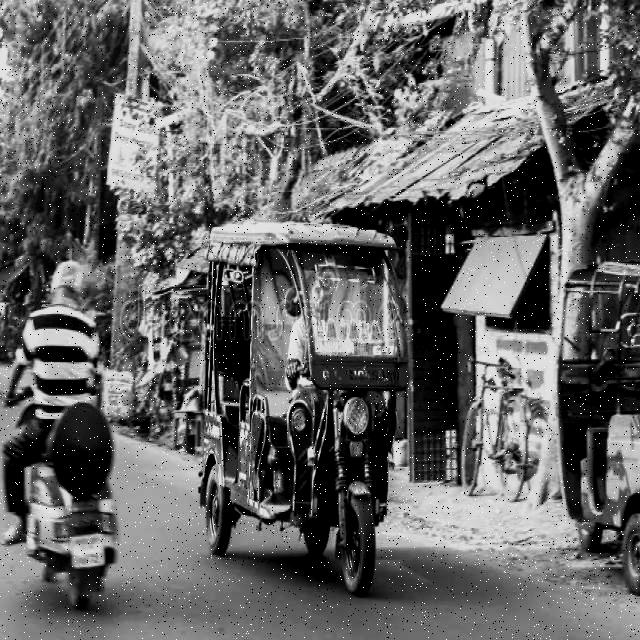Toto: (195, 217, 403, 598)
